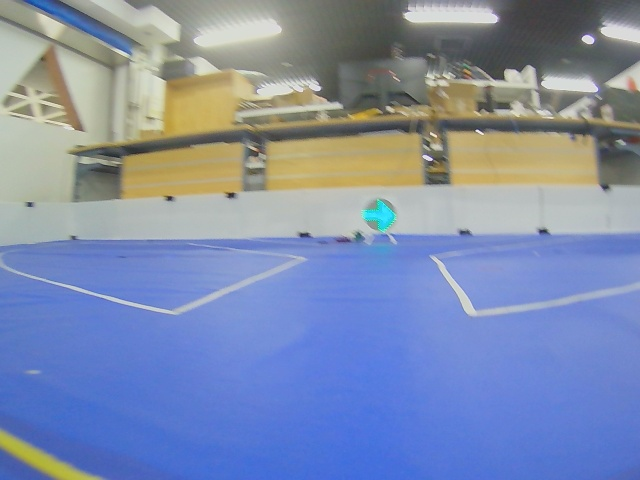right_green: (362, 199, 397, 233)
